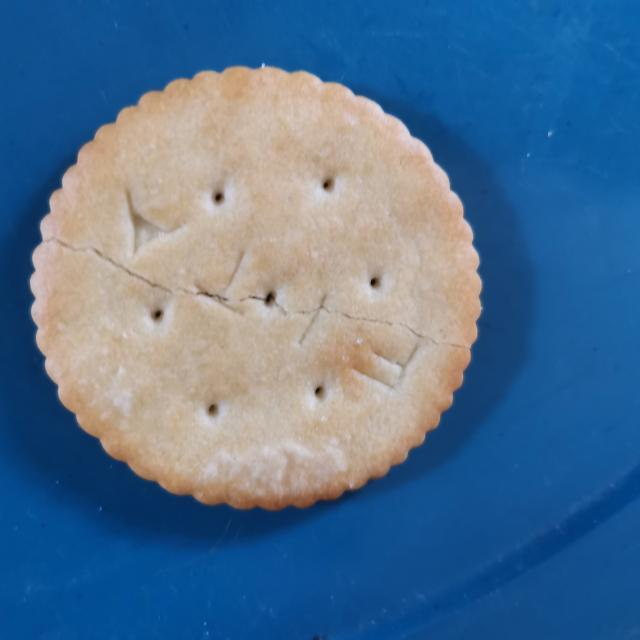Fracture: (32, 213, 484, 374)
